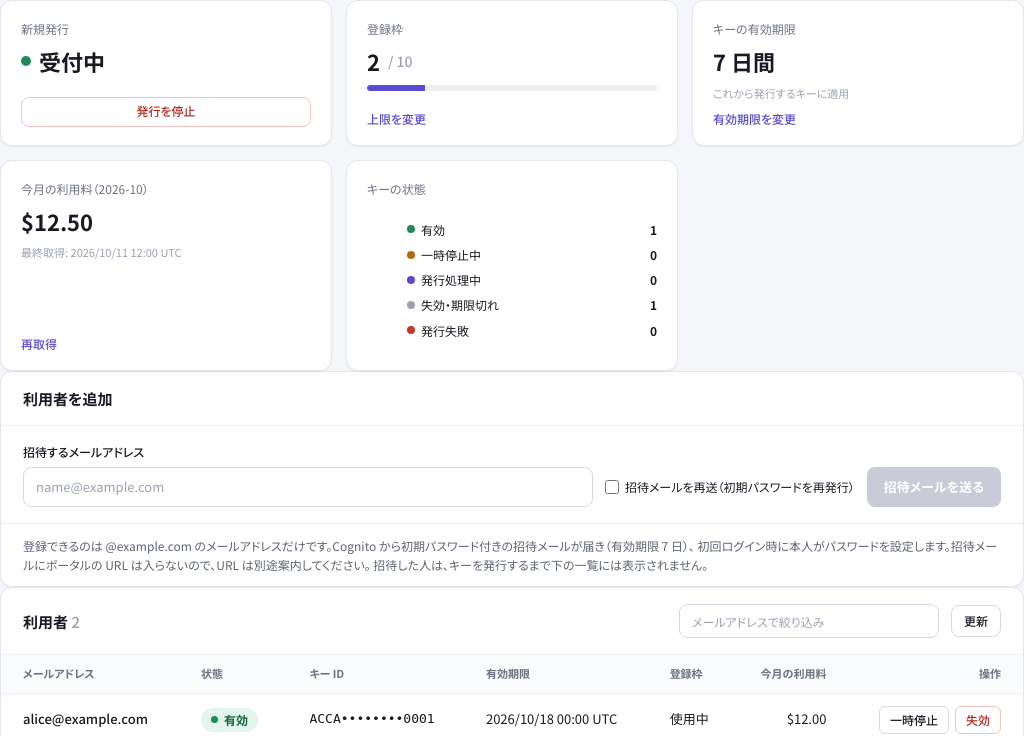
Scenario: AdminView › blocks other domains client-side and re-sends when asked
Type "mallory@evil-example.com" into the field labelled "招待するメールアドレス".
click(308, 487); type("mallory@evil-example.com")  # box x1=23 y1=467 x2=593 y2=507
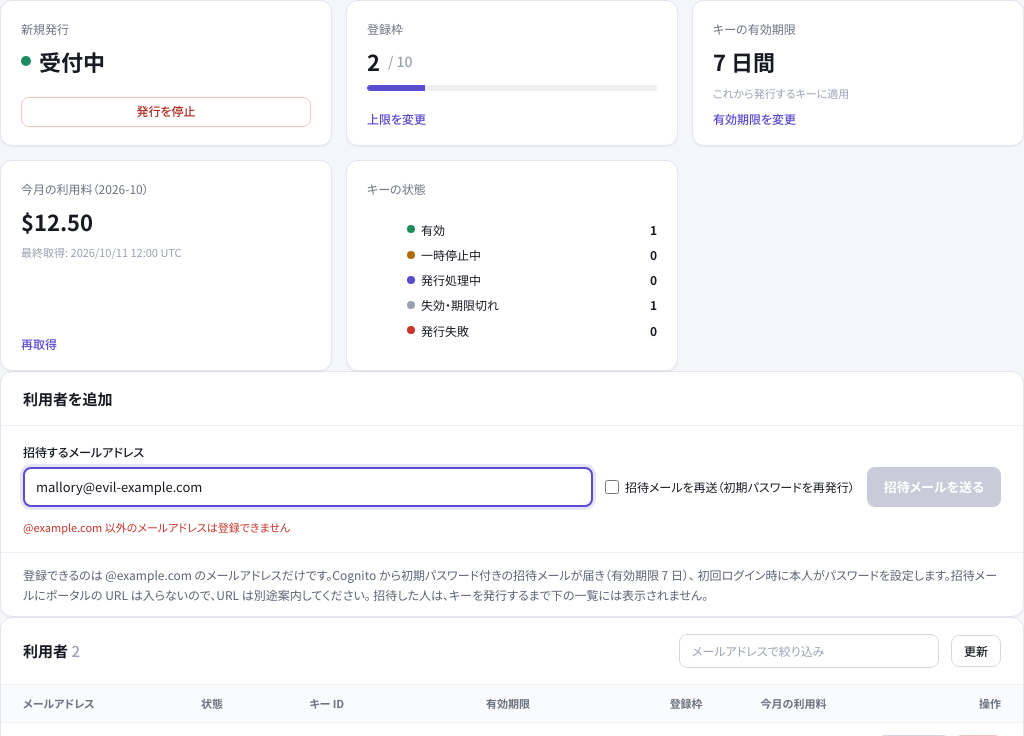
Expected: the button "招待メールを送る" is disabled, x1=867 y1=467 x2=1001 y2=507
Now the message reads "@example.com 以外のメールアドレスは登録できません", box x1=23 y1=519 x2=290 y2=535
Replace the text in the field labelled "招待するメールアドレス" with "dan@example.com" at point(308, 487), box x1=23 y1=467 x2=593 y2=507
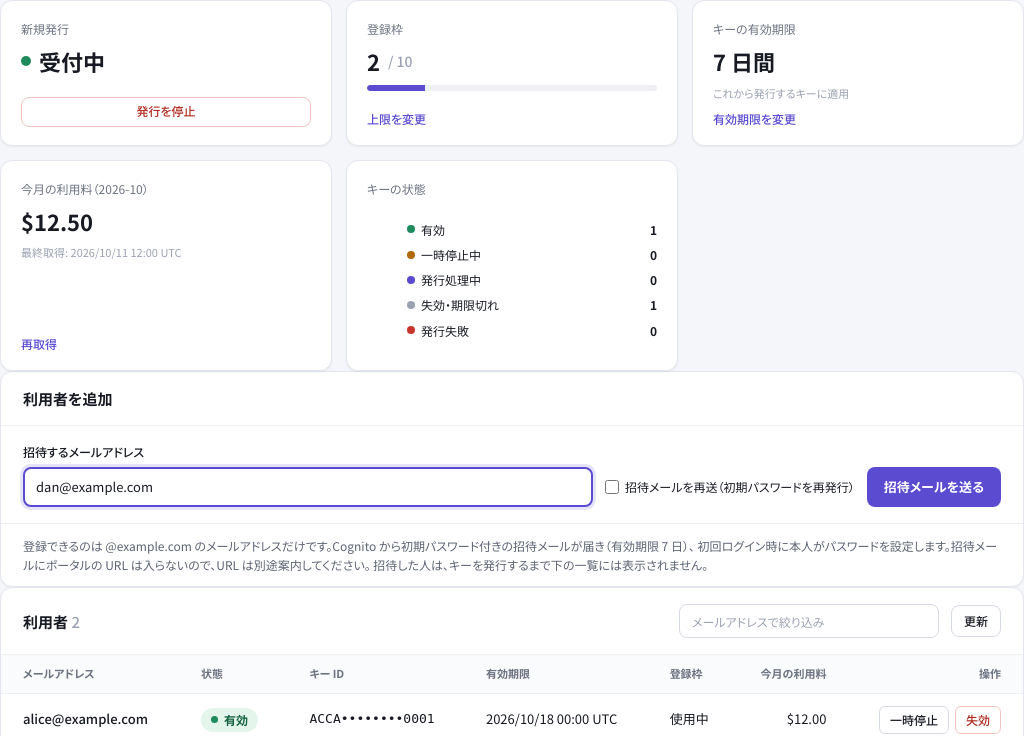
Click the checkbox labelled "招待メールを再送（初期パスワードを再発行）".
click(612, 487)  # box x1=605 y1=480 x2=619 y2=494
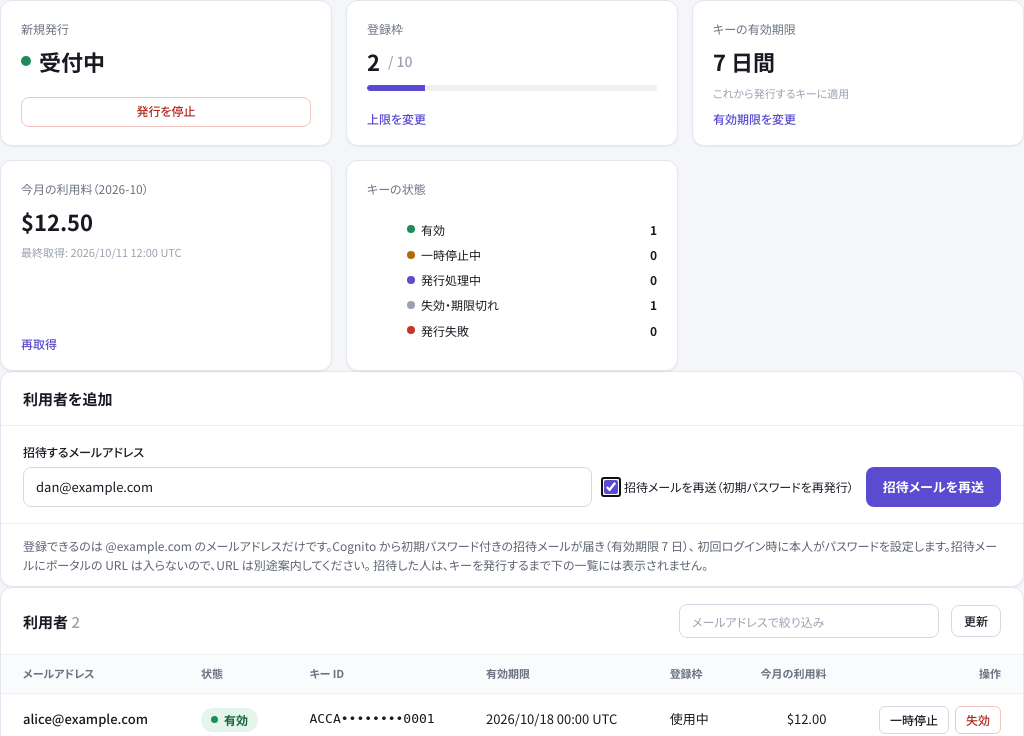
Click the button "招待メールを再送".
click(933, 487)  # box x1=866 y1=467 x2=1001 y2=507
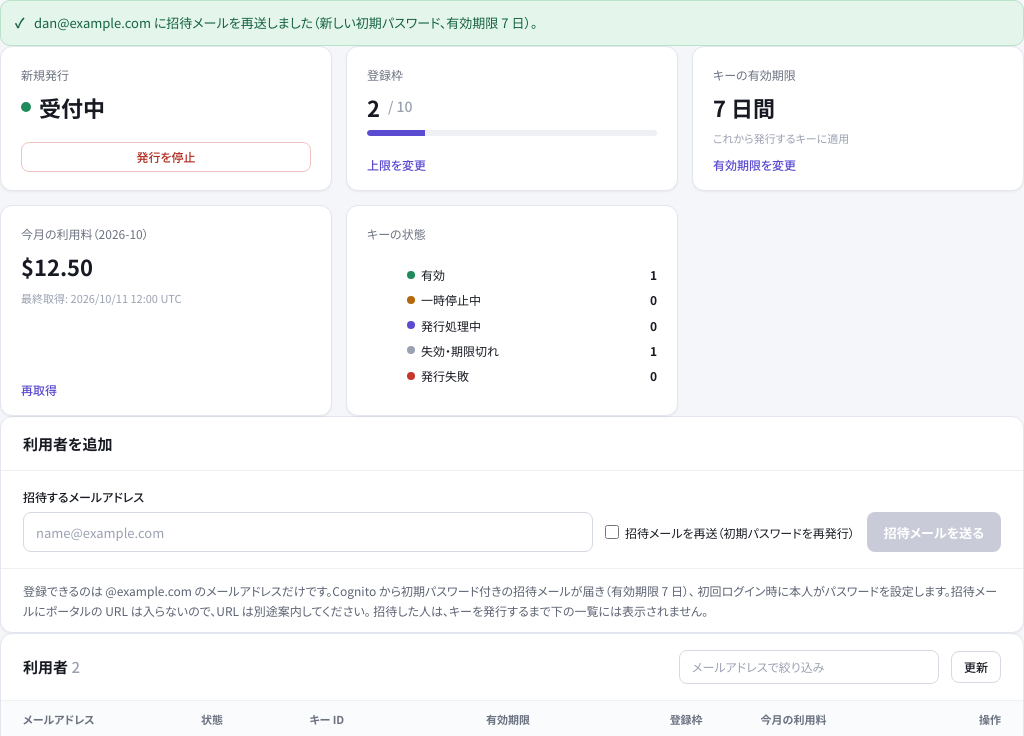
Now the text "dan@example.com に招待メールを再送しました（新しい初期パスワード、有効期限 7 日）。" is shown, box x1=34 y1=13 x2=537 y2=32
